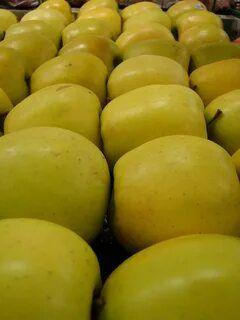Apple: (113, 136, 240, 230), (102, 235, 240, 318), (3, 127, 110, 230), (4, 219, 100, 320), (102, 83, 213, 143), (3, 84, 99, 136), (29, 51, 106, 96), (110, 58, 193, 94)
